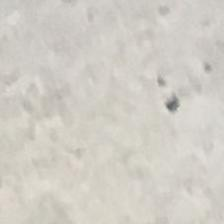Non_Crack: (18, 20, 145, 220)
